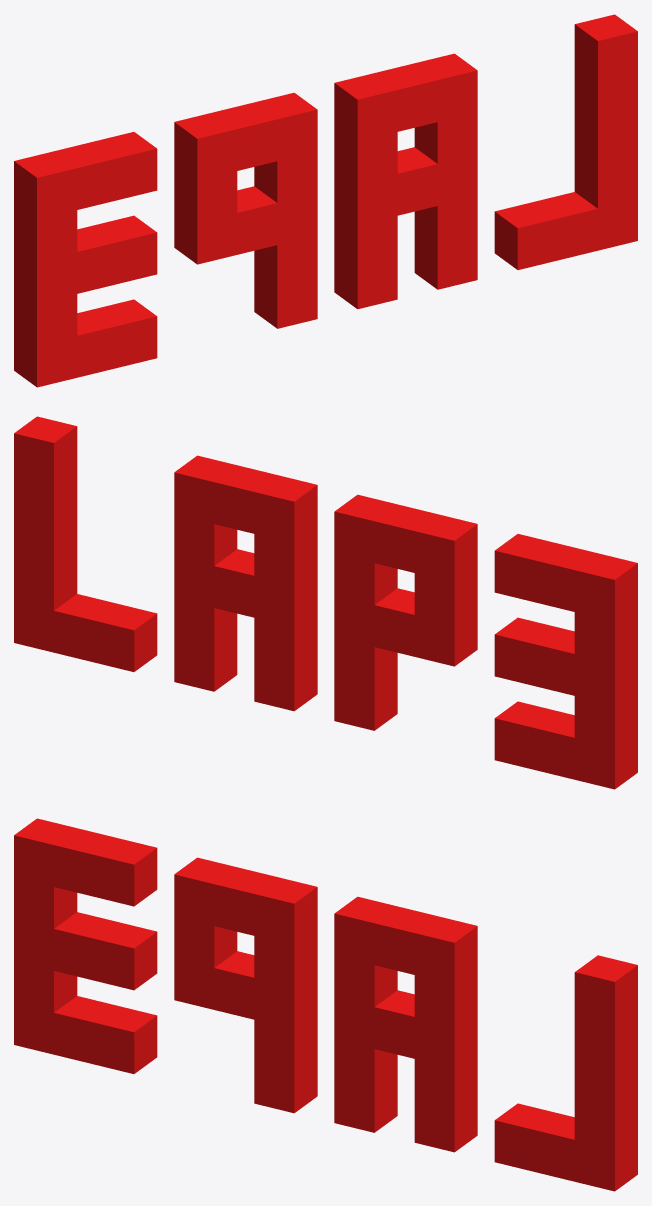
File: lap3text.gltf
3 renders of one model, top to bottom at view 1: azimuth 30°, elevation 25°; view 2: azimuth 150°, elevation 25°; view 3: azimuth 330°, elevation 25°, orthographic.
Visible parts, largest first — view 1: cube (×14); view 2: cube (×14); view 3: cube (×14).
Boxes of the visible parts, x1,y1,x2,y2 form: cube (×14): [14, 14, 637, 387]; cube (×14): [14, 416, 637, 789]; cube (×14): [14, 818, 637, 1191].
Bounding box in the file's own units: 0.9375 × 0.3125 × 0.0625.
Materials: 1 (1 with a texture image).
